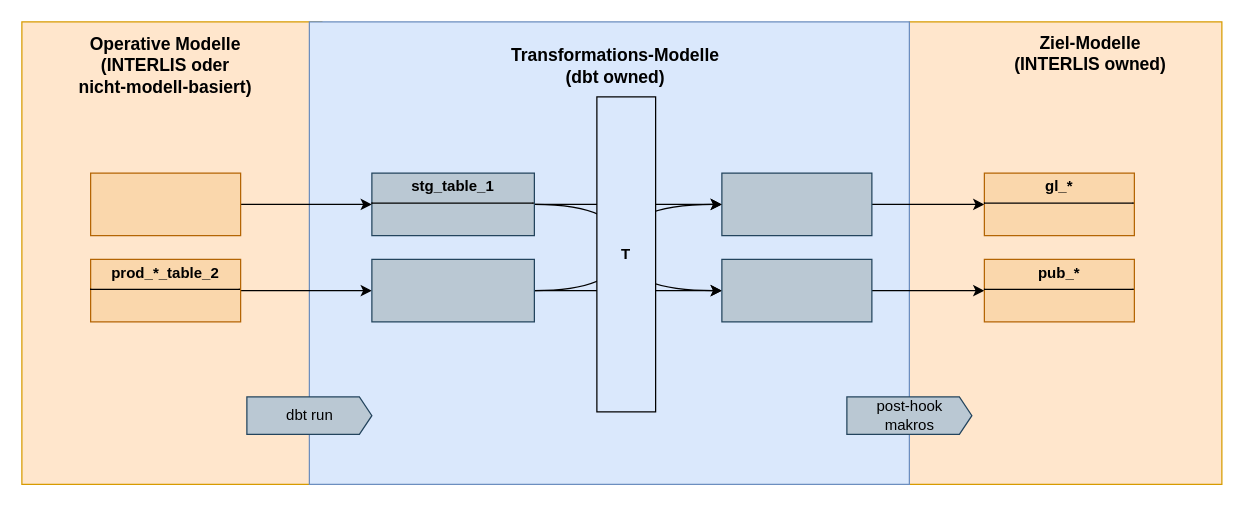
This 1256x506 diagram has some shape labels left out. The centre of each missing label's shape, as x and y in pixels:
"ili_mirror_1" belongs at pixel 796 204.
"ili_mirror_2" belongs at pixel 796 290.
"prod_*_table_1" belongs at pixel 165 204.
"stg_table_2" belongs at pixel 452 290.
